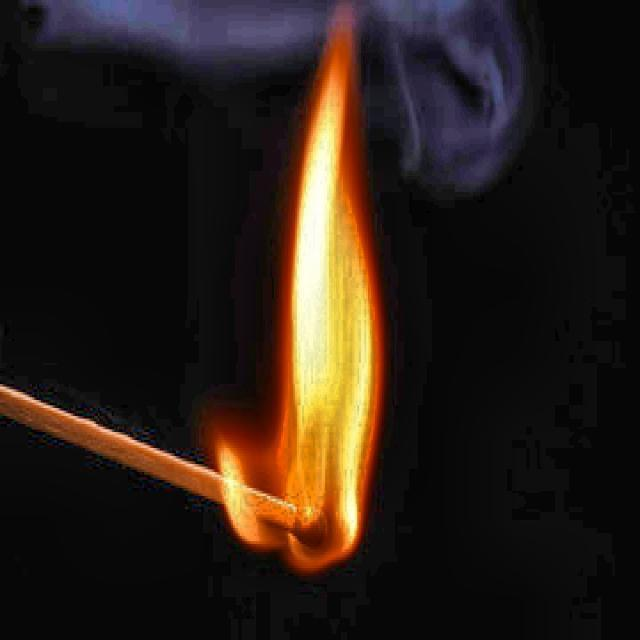fire: (284, 36, 388, 567)
